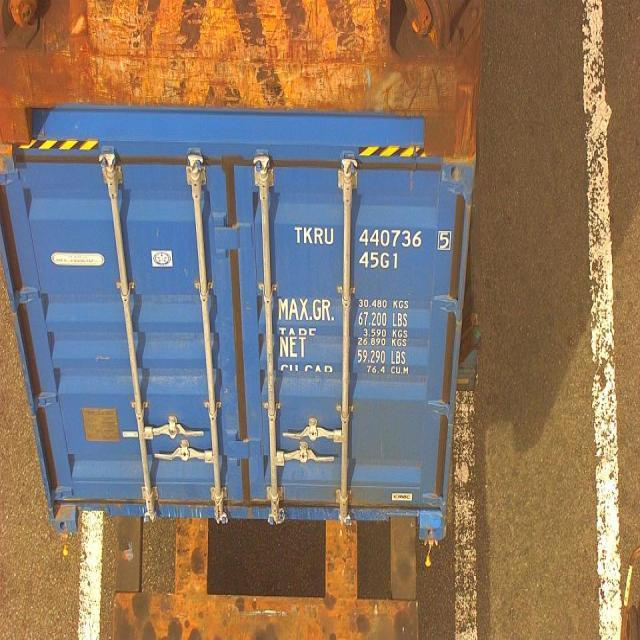ISO: (360, 250, 400, 271)
container_number: (298, 228, 452, 249)
